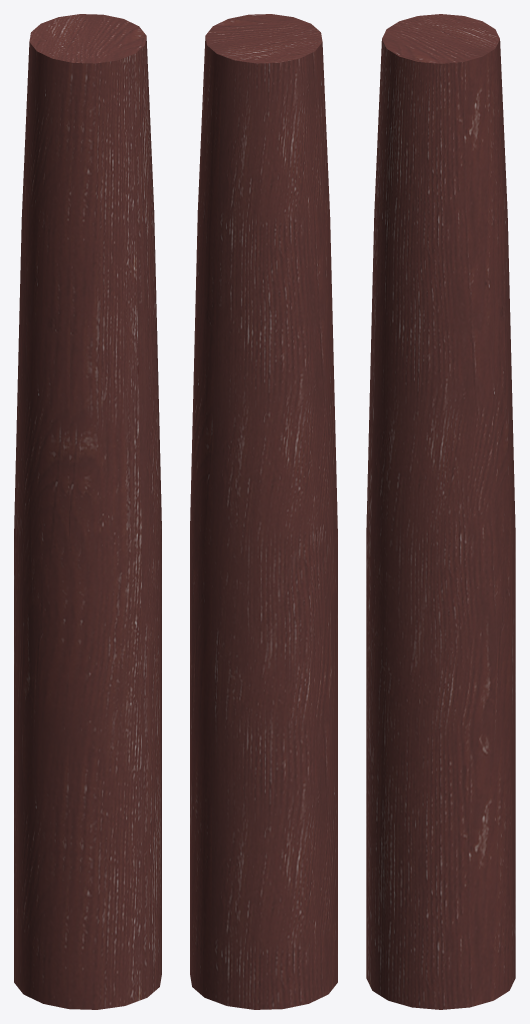
Rendered from SM_Geumsan_Mi_Pillar_C.fbx.
The picture shows the model from 3 angles, left to right: view 1: azimuth 30°, elevation 25°; view 2: azimuth 150°, elevation 25°; view 3: azimuth 270°, elevation 25°; orthographic projection.
Visible parts, largest first — view 1: SM_Geumsan_Mi_Pillar_C; view 2: SM_Geumsan_Mi_Pillar_C; view 3: SM_Geumsan_Mi_Pillar_C.
Boxes of the visible parts, x1,y1,x2,y2 form: SM_Geumsan_Mi_Pillar_C: [14, 14, 161, 1009]; SM_Geumsan_Mi_Pillar_C: [190, 14, 337, 1009]; SM_Geumsan_Mi_Pillar_C: [366, 14, 515, 1009].
Size of the model in its own units: 58.87 by 410 by 58.93.
